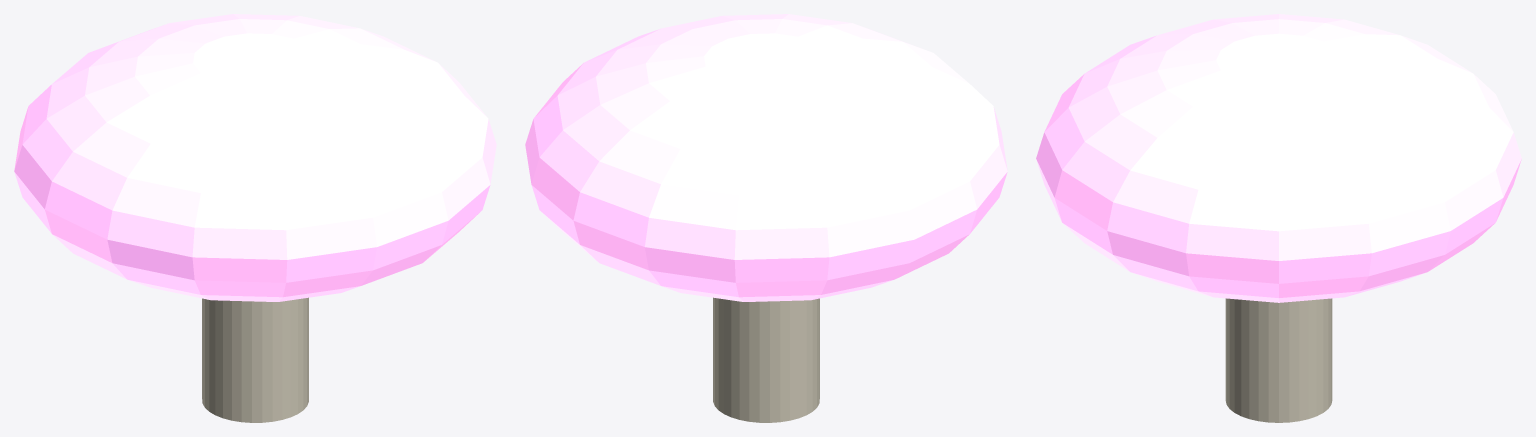
Rendered from Mushroom.glb.
3 renders of one model, left to right at view 1: azimuth 30°, elevation 25°; view 2: azimuth 150°, elevation 25°; view 3: azimuth 270°, elevation 25°, orthographic.
Parts seen in each view (by area): view 1: Mushroom_Cap, Mushroom_Stem; view 2: Mushroom_Cap, Mushroom_Stem; view 3: Mushroom_Cap, Mushroom_Stem.
Boxes of the visible parts, box(x1,y1,x2,y2) form: Mushroom_Cap: box(14, 14, 496, 301); Mushroom_Stem: box(202, 297, 308, 422); Mushroom_Cap: box(525, 14, 1007, 301); Mushroom_Stem: box(713, 297, 819, 422); Mushroom_Cap: box(1036, 14, 1521, 302); Mushroom_Stem: box(1225, 298, 1332, 422).
Bounding box in the file's own units: 0.91 × 0.71 × 0.91.
